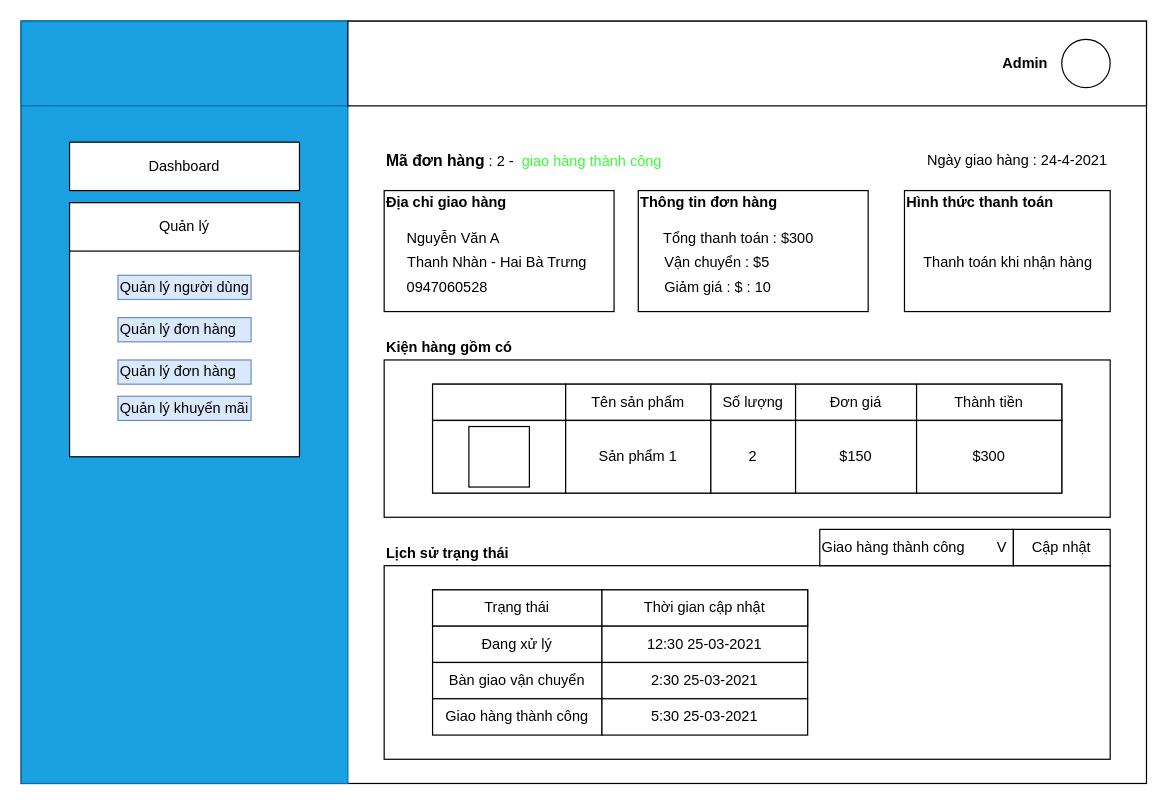
Image size: 1168x805. Some labels were removed from this diagram. Each missing label, with the box of its shape:
Trang quản trị: (20, 20, 348, 106)
Ảnh: (468, 425, 529, 487)
